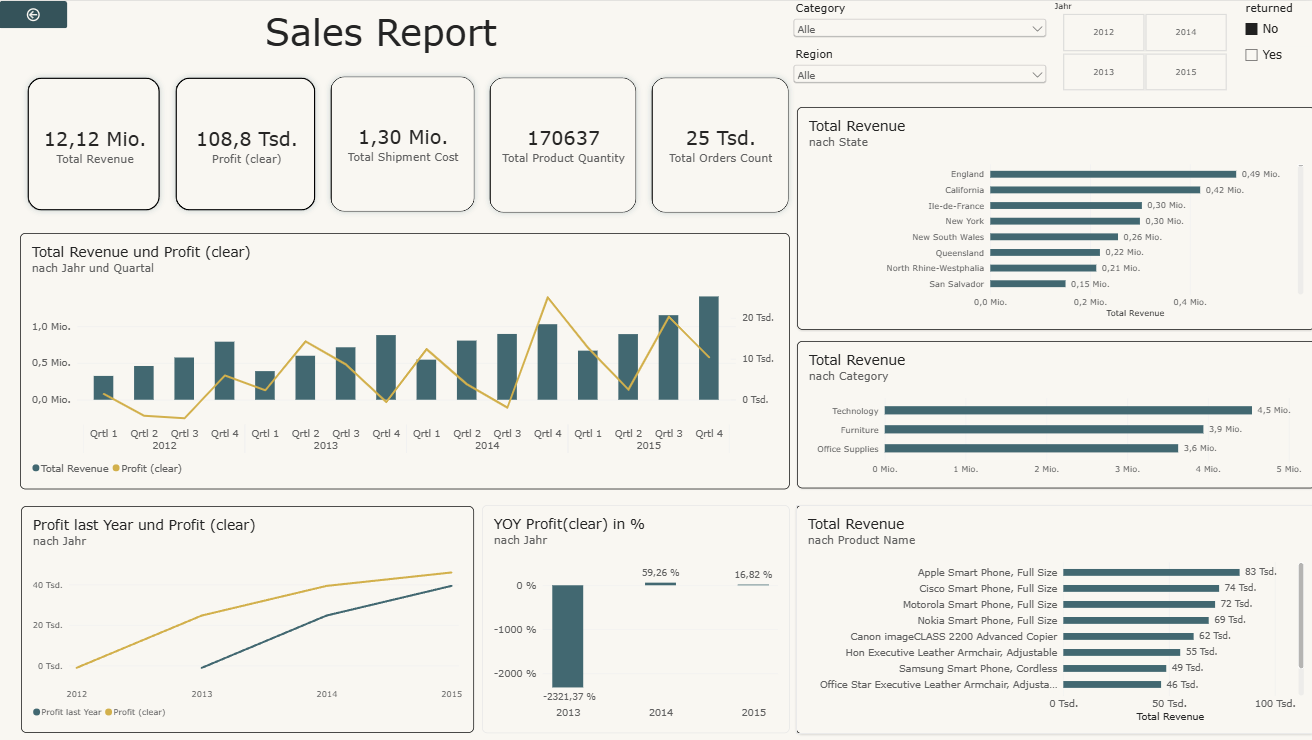

Layout of this report page (visuals, bound fields, positions):
{"tool":"powerbi","page":{"name":"Overview","canvas":[1920,1080],"ordinal":0},"visuals":[{"type":"lineStackedColumnComboChart","fields":{"Category":["DimDate.Date.Variation.Datumshierarchie.Jahr","DimDate.Date.Variation.Datumshierarchie.Quartal","DimDate.Date.Variation.Datumshierarchie.Monat","DimDate.Date.Variation.Datumshierarchie.Tag"],"Y":["_measures.Total_Revenue"],"Y2":["_measures.Profit_withOUT_shipment"]},"box":[30.9,338.4,1122.7,374.2],"z":0},{"type":"cardVisual","fields":{"Data":["_measures.Total_Revenue"]},"box":[31.3,101.1,215.1,216.5],"z":1000},{"type":"cardVisual","fields":{"Data":["_measures.Profit_withOUT_shipment"]},"box":[246.4,101.1,226.5,216.5],"z":2000},{"type":"slicer","fields":{"Values":["factOrders.returned"]},"box":[1811,0,109,131.8],"z":3000},{"type":"cardVisual","fields":{"Data":["_measures.Total_Ship_Coast"]},"box":[472.9,99.7,232.2,219.3],"z":4000},{"type":"cardVisual","fields":{"Data":["_measures.Total_product_quantity"]},"box":[705,101.1,236.4,219.3],"z":5000},{"type":"barChart","fields":{"Category":["dimProduct.Product Name"],"Y":["_measures.Total_Revenue"]},"box":[1162.5,735.5,758.1,333.8],"z":6000},{"type":"slicer","fields":{"Values":["DimDate.Date.Variation.Datumshierarchie.Jahr"]},"box":[1532.6,0,277.7,132.5],"z":7000},{"type":"textbox","box":[31.3,11.4,1052.6,89.7],"z":8000},{"type":"cardVisual","fields":{"Data":["_measures.Total Orders Count"]},"box":[941.5,101.1,222.2,219.3],"z":9000},{"type":"barChart","fields":{"Category":["dimStoreAdress.Region Hierarchie.Region","dimStoreAdress.Region Hierarchie.Country","dimStoreAdress.Region Hierarchie.State","dimStoreAdress.Region Hierarchie.City"],"Y":["_measures.Total_Revenue"]},"box":[1164.3,154.7,755.7,325.3],"z":10000},{"type":"lineChart","fields":{"Category":["DimDate.Date.Variation.Datumshierarchie.Jahr","DimDate.Date.Variation.Datumshierarchie.Quartal","DimDate.Date.Variation.Datumshierarchie.Monat","DimDate.Date.Variation.Datumshierarchie.Tag"],"Y":["_measures.Profit last Year","_measures.Profit_withOUT_shipment"]},"box":[31.6,736.4,661,331.4],"z":11000},{"type":"slicer","fields":{"Values":["dimProduct.Category"]},"box":[1153.7,0,378.9,66.9],"z":12000},{"type":"slicer","fields":{"Values":["dimStoreAdress.Region"]},"box":[1153.7,66.9,378.9,65.5],"z":13000},{"type":"barChart","fields":{"Category":["dimProduct.Category"],"Y":["_measures.Total_Revenue"]},"box":[1163.8,496.1,756.8,215.5],"z":14000},{"type":"actionButton","box":[0,0,100,40],"z":15000},{"type":"columnChart","fields":{"Category":["DimDate.Date.Variation.Datumshierarchie.Jahr"],"Y":["_measures.YOY Profit(clear) in %"]},"box":[704.9,734.7,448.9,333.2],"z":15001}]}

Visuals, with their boxes in screenshot pixels (x1, y1, x2, y2), scaled from the page's 1920x1080 canvas onto the 1312x740 screenshot:
lineStackedColumnComboChart - DimDate.Date.Variation.Datumshierarchie.Jahr x DimDate.Date.Variation.Datumshierarchie.Quartal: 21/232/788/488
cardVisual - _measures.Total_Revenue: 21/69/168/218
cardVisual - _measures.Profit_withOUT_shipment: 168/69/323/218
slicer - factOrders.returned: 1238/0/1311/90
cardVisual - _measures.Total_Ship_Coast: 323/68/482/219
cardVisual - _measures.Total_product_quantity: 482/69/643/220
barChart - dimProduct.Product Name x _measures.Total_Revenue: 794/504/1311/733
slicer - DimDate.Date.Variation.Datumshierarchie.Jahr: 1047/0/1237/91
textbox: 21/8/741/69
cardVisual - _measures.Total Orders Count: 643/69/795/220
barChart - dimStoreAdress.Region Hierarchie.Region x dimStoreAdress.Region Hierarchie.Country: 796/106/1311/329
lineChart - DimDate.Date.Variation.Datumshierarchie.Jahr x DimDate.Date.Variation.Datumshierarchie.Quartal: 22/505/473/732
slicer - dimProduct.Category: 788/0/1047/46
slicer - dimStoreAdress.Region: 788/46/1047/91
barChart - dimProduct.Category x _measures.Total_Revenue: 795/340/1311/488
actionButton: 0/0/68/27
columnChart - DimDate.Date.Variation.Datumshierarchie.Jahr x _measures.YOY Profit(clear) in %: 482/503/788/732
